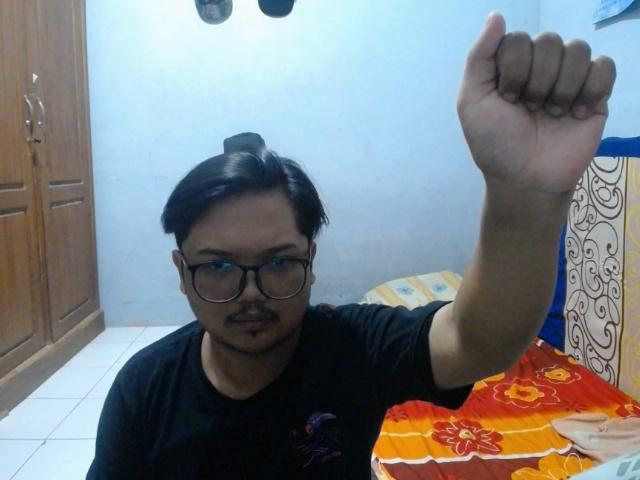Grab: (450, 8, 622, 206)
